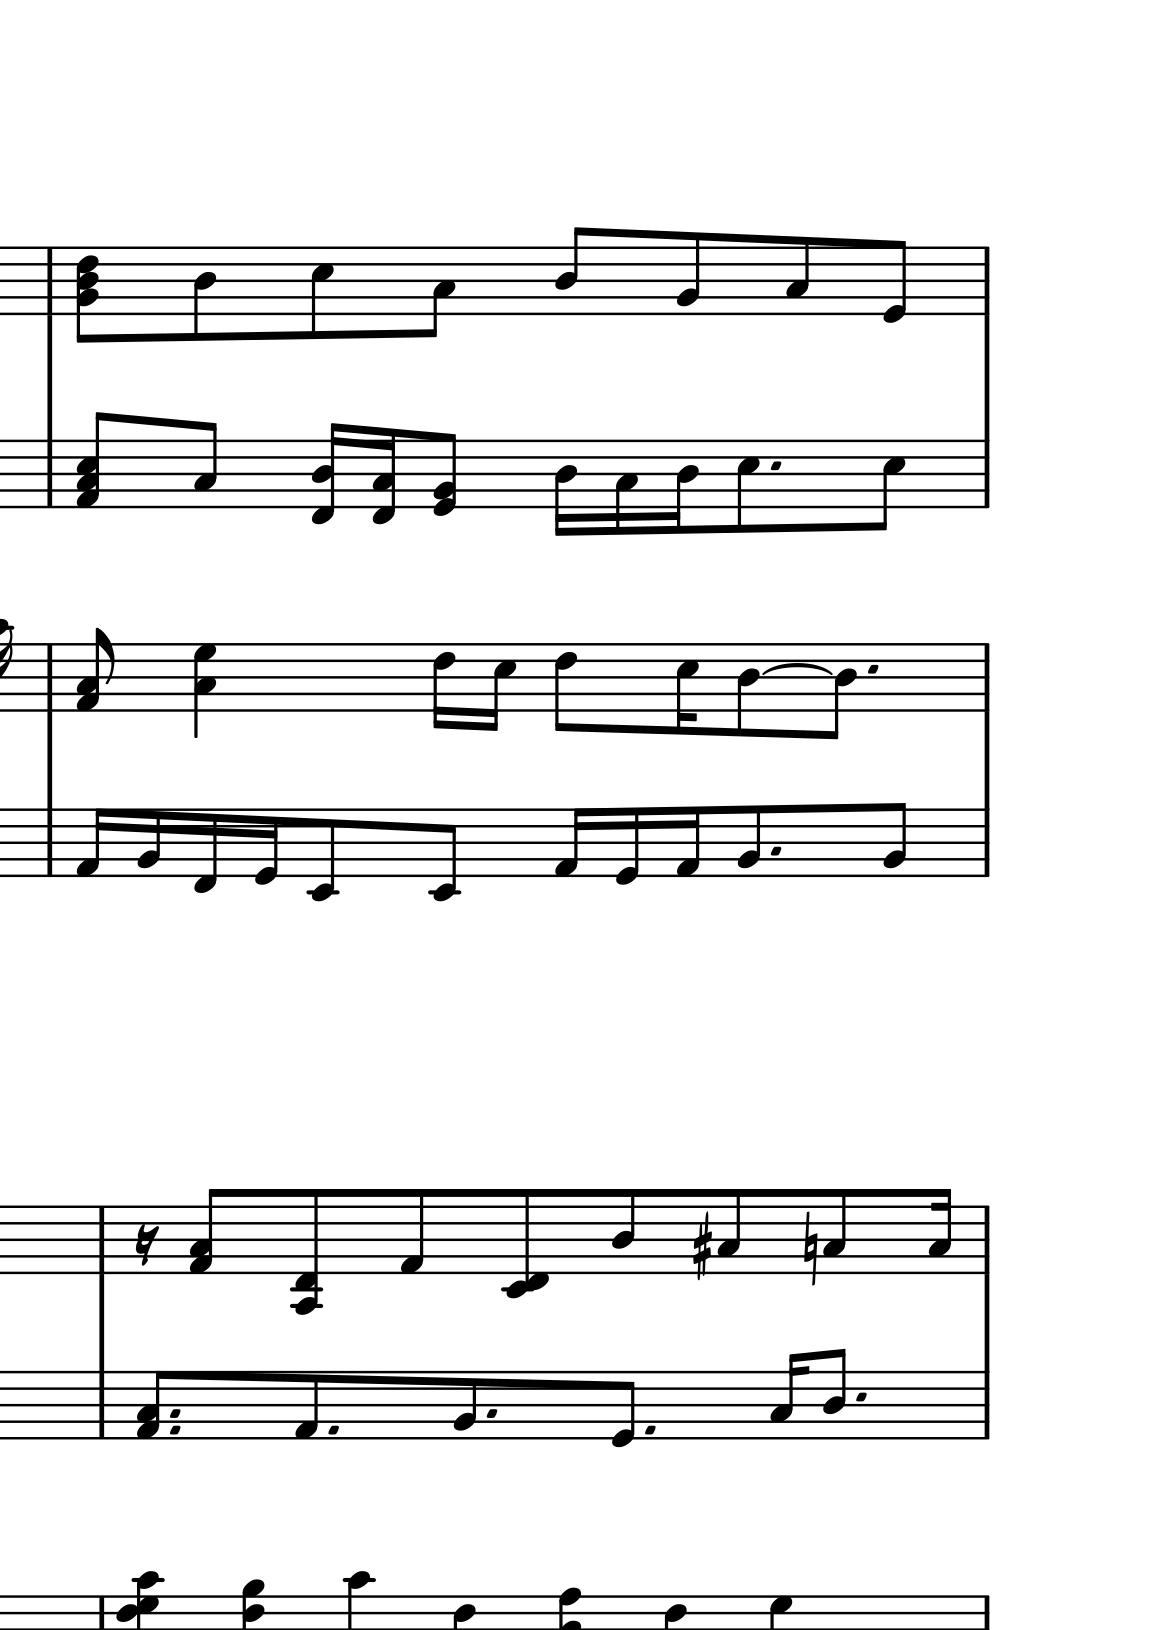16_-1: (191, 806, 219, 895)
16_-1_3: (372, 425, 399, 525)
16_-1_4: (310, 421, 347, 525)
16_0: (252, 806, 281, 887), (613, 805, 641, 889)
16_1: (552, 805, 587, 880), (74, 808, 108, 881), (674, 805, 702, 880)
16_2: (136, 806, 163, 880)
16_3: (767, 1351, 809, 1441), (612, 437, 640, 537), (926, 1185, 953, 1277)
16_4: (668, 437, 701, 537), (552, 437, 578, 540)
16_5: (485, 642, 517, 733), (674, 642, 699, 736)
16_6: (431, 642, 458, 732)
4_3_7: (193, 641, 217, 738)
8_-2: (428, 806, 461, 903), (305, 808, 338, 906)
8_-2_-1: (499, 1188, 552, 1299)
8_-4_-1: (289, 1188, 325, 1315)
8_0: (876, 237, 911, 326), (610, 1370, 638, 1451)
8_0_2: (433, 431, 458, 518)
8_1: (396, 1188, 425, 1277), (290, 1370, 320, 1442)
8_1_3: (75, 626, 117, 717), (188, 1188, 224, 1275), (133, 1370, 171, 1442)
8_2: (878, 799, 908, 881), (674, 231, 702, 319), (737, 803, 763, 881), (453, 1370, 478, 1442)
8_3: (421, 244, 458, 339), (784, 236, 815, 318), (192, 419, 219, 511), (716, 1188, 743, 1276), (822, 1188, 848, 1277)
8_4: (822, 642, 859, 741), (552, 224, 588, 318), (191, 244, 221, 345), (736, 642, 762, 740), (608, 1188, 637, 1276), (822, 1347, 847, 1442)
8_5: (871, 437, 908, 535), (736, 437, 770, 537), (309, 244, 335, 341)
8_6: (552, 642, 580, 735)
8_th: (75, 411, 112, 513), (75, 245, 102, 346)
Natural: (800, 1210, 819, 1289)
Rests16: (132, 1222, 160, 1267)
Sharp: (689, 1215, 711, 1284)
Single_barline: (37, 643, 61, 712), (975, 808, 997, 877), (90, 1372, 113, 1438), (39, 247, 61, 315), (39, 440, 60, 508), (975, 440, 996, 508), (975, 644, 996, 712), (975, 1373, 996, 1439), (39, 808, 59, 877), (91, 1208, 112, 1272), (976, 247, 996, 314), (977, 1208, 995, 1274)
Slur: (761, 663, 832, 675)
dot: (482, 1404, 500, 1423), (641, 1421, 658, 1438), (769, 842, 785, 859), (852, 1389, 868, 1404), (167, 1404, 182, 1421), (865, 662, 880, 677), (168, 1424, 182, 1438), (768, 459, 783, 471), (327, 1423, 339, 1436)
